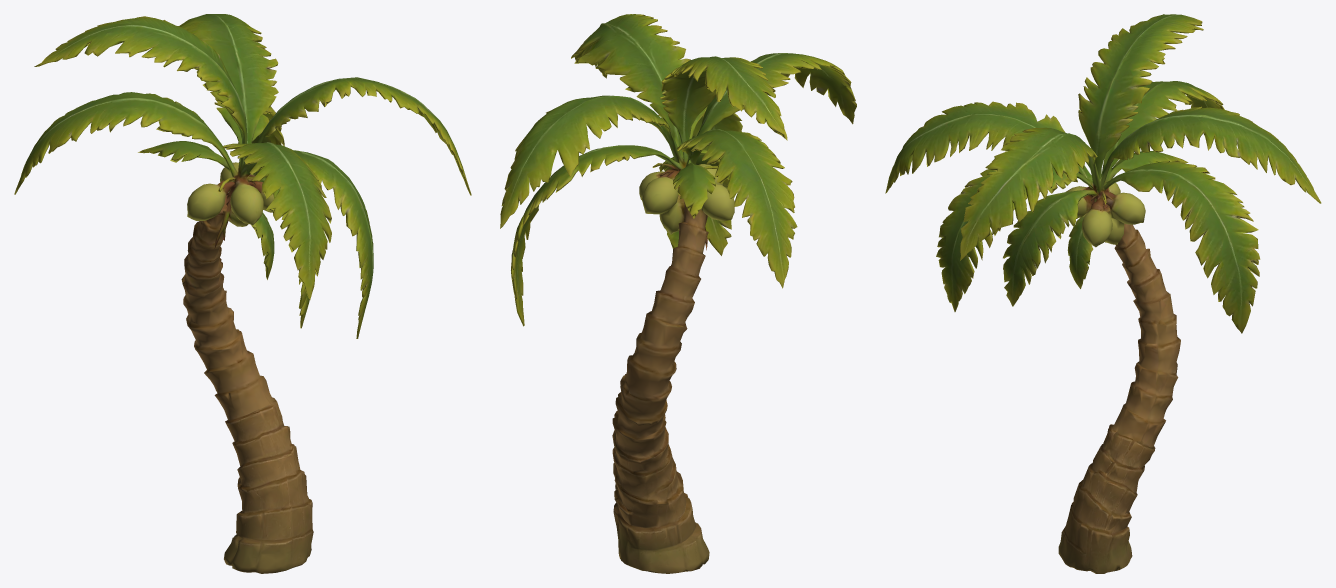
Rendered from palmera_cocos.glb.
The picture shows the model from 3 angles, left to right: view 1: azimuth 30°, elevation 25°; view 2: azimuth 150°, elevation 25°; view 3: azimuth 270°, elevation 25°; orthographic projection. The views are drawn at different scales.
Visible parts, largest first — view 1: tripo_node_c9575d8f-fdd6-472d-bad4-6d64c92e621f; view 2: tripo_node_c9575d8f-fdd6-472d-bad4-6d64c92e621f; view 3: tripo_node_c9575d8f-fdd6-472d-bad4-6d64c92e621f.
Part boxes in pixels (x1,y1,x2,y2): tripo_node_c9575d8f-fdd6-472d-bad4-6d64c92e621f: (14, 14, 471, 573); tripo_node_c9575d8f-fdd6-472d-bad4-6d64c92e621f: (500, 14, 856, 573); tripo_node_c9575d8f-fdd6-472d-bad4-6d64c92e621f: (885, 14, 1321, 573).
Bounding box in the file's own units: 0.618 × 1 × 0.8013.
Materials: 1 (1 with a texture image).
